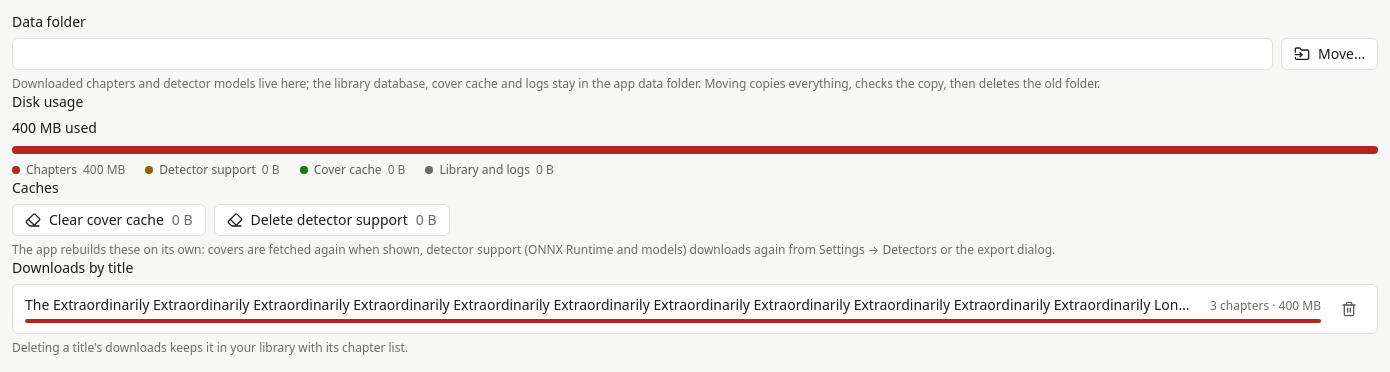
Test: storage usage list hints › names the delete button in the Hint
Hover over the button named "Delete the downloads of The Extraordinarily Extraordinarily": (1349, 309) [1333,293,1365,325]
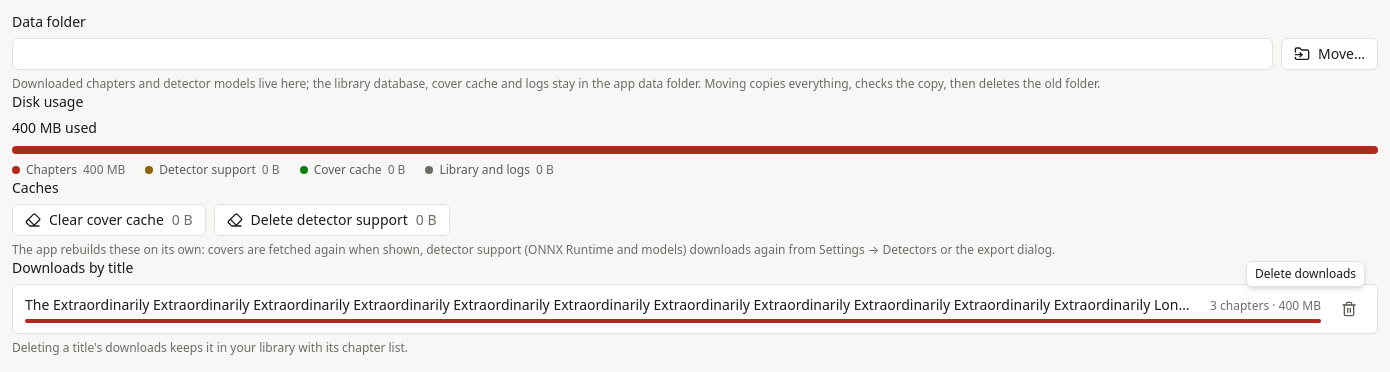
Now the tooltip reads "Delete downloads", box [1255,265,1356,282]
